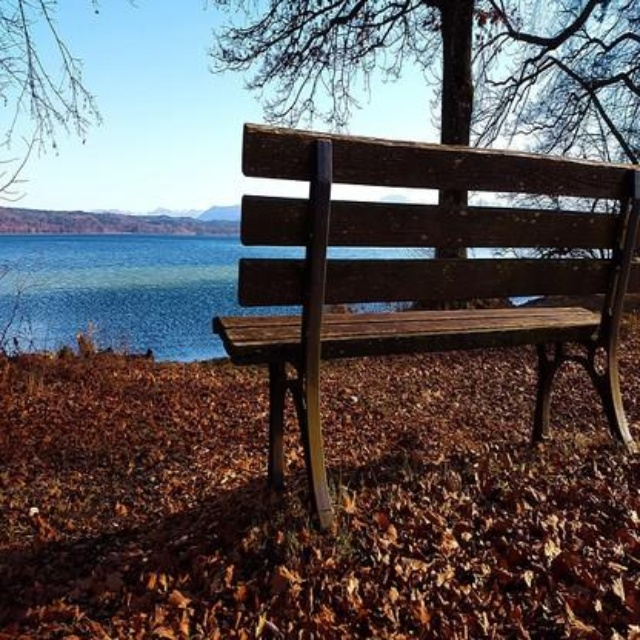obstacle: (208, 102, 629, 528)
